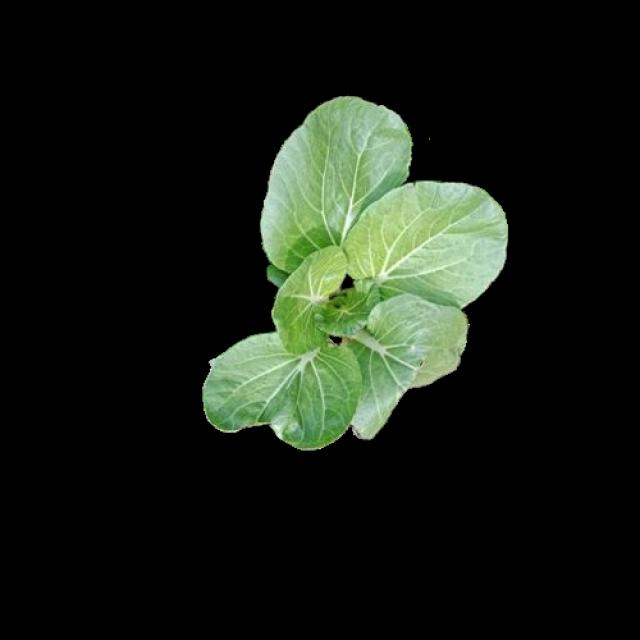healthy: (202, 95, 503, 444)
mature: (204, 97, 506, 447)
